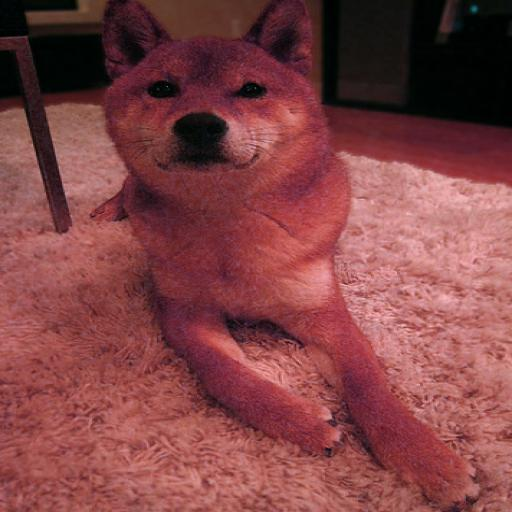dog_face: (95, 0, 311, 167)
